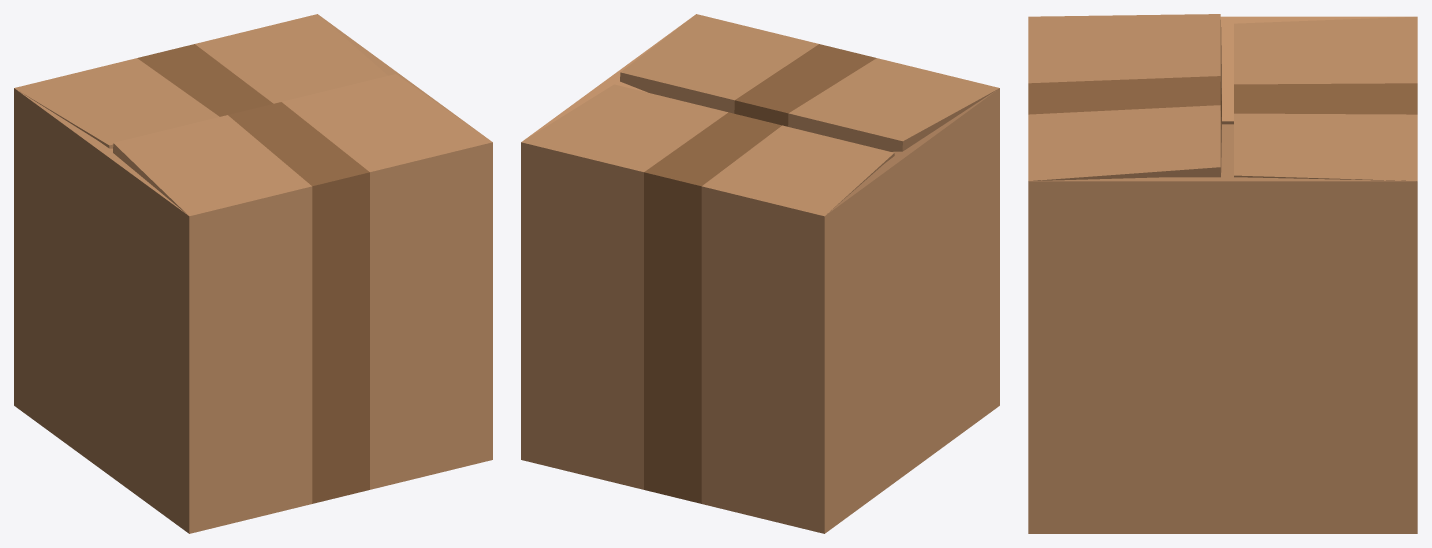
The model's file is BoxClosed1.fbx.
3 views of the same model, side by side, from view 1: azimuth 30°, elevation 25°; view 2: azimuth 150°, elevation 25°; view 3: azimuth 270°, elevation 25° (orthographic). The views are drawn at different scales.
Visible parts, largest first — view 1: BoxClosed1; view 2: BoxClosed1; view 3: BoxClosed1.
Boxes of the visible parts, x1,y1,x2,y2 form: BoxClosed1: (14,14,492,533); BoxClosed1: (521,14,999,533); BoxClosed1: (1028,14,1417,533).
Bounding box in the file's own units: 63.12 × 64.61 × 63.12.
1 material, 1 textured.
